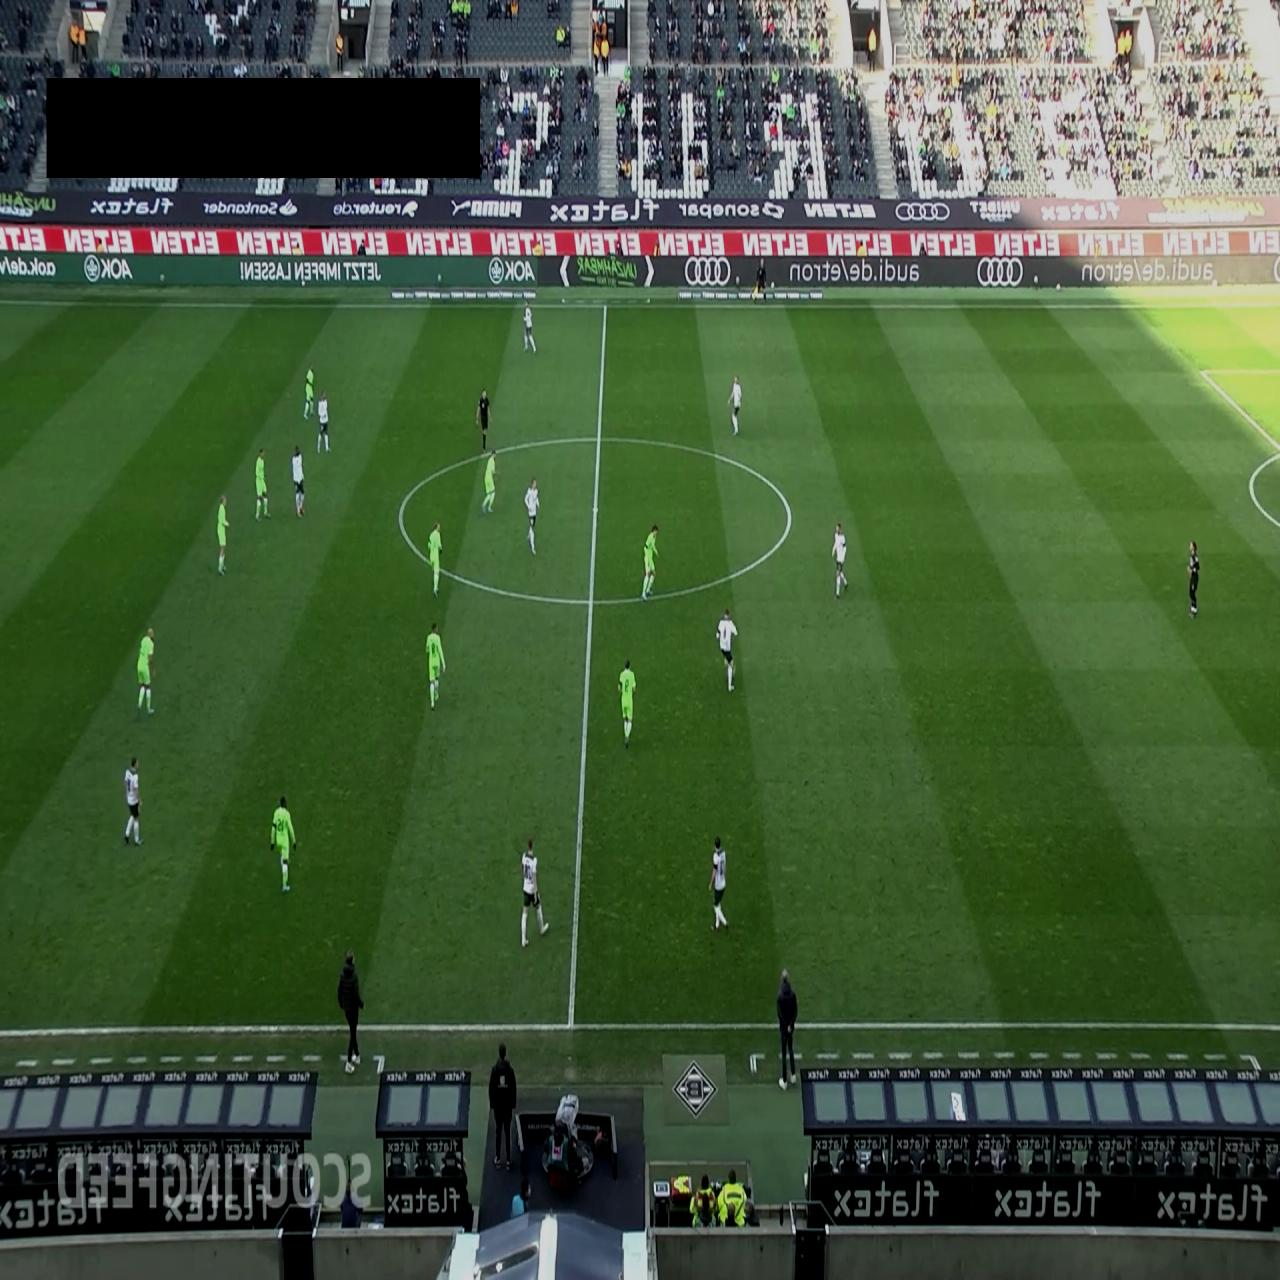goalkeeper: (1187, 540, 1200, 618)
player: (520, 838, 551, 948), (270, 794, 296, 894), (708, 836, 729, 932), (716, 607, 738, 692), (123, 756, 143, 846), (426, 620, 446, 710), (618, 658, 637, 749), (136, 626, 155, 716), (641, 522, 659, 600), (480, 447, 500, 514), (831, 522, 848, 600), (427, 520, 443, 598), (254, 447, 271, 520), (525, 476, 540, 556), (291, 443, 306, 518), (217, 493, 230, 576), (726, 373, 742, 435), (317, 387, 330, 454), (523, 304, 537, 354), (303, 362, 315, 420)
referee: (477, 388, 491, 452), (752, 258, 766, 305)
